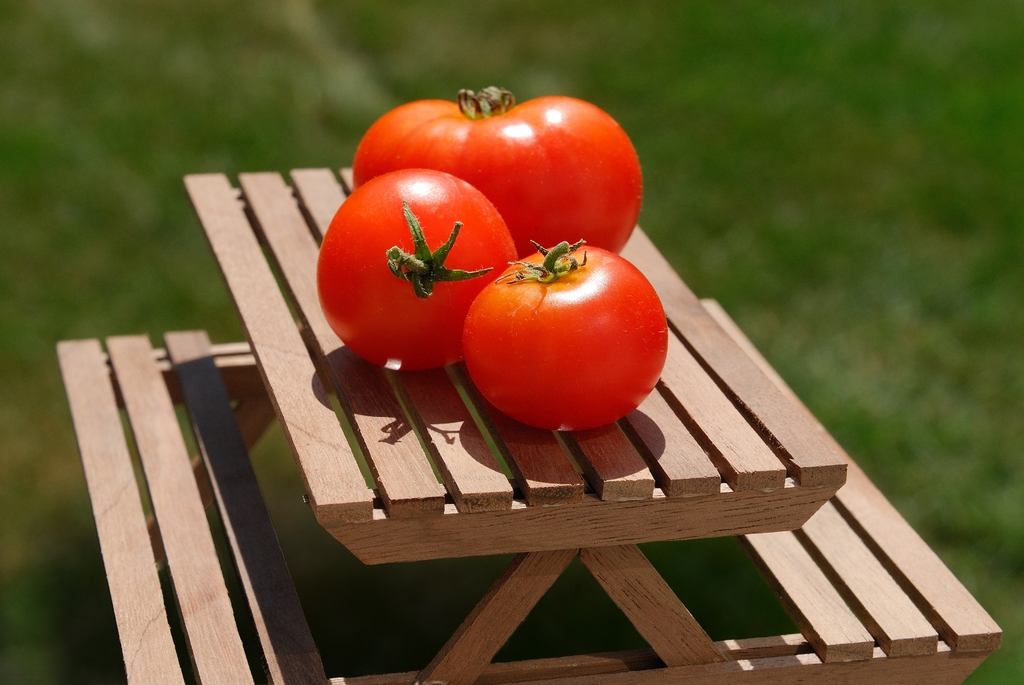Tomato: (351, 83, 645, 257), (313, 165, 520, 368), (463, 224, 671, 426)
